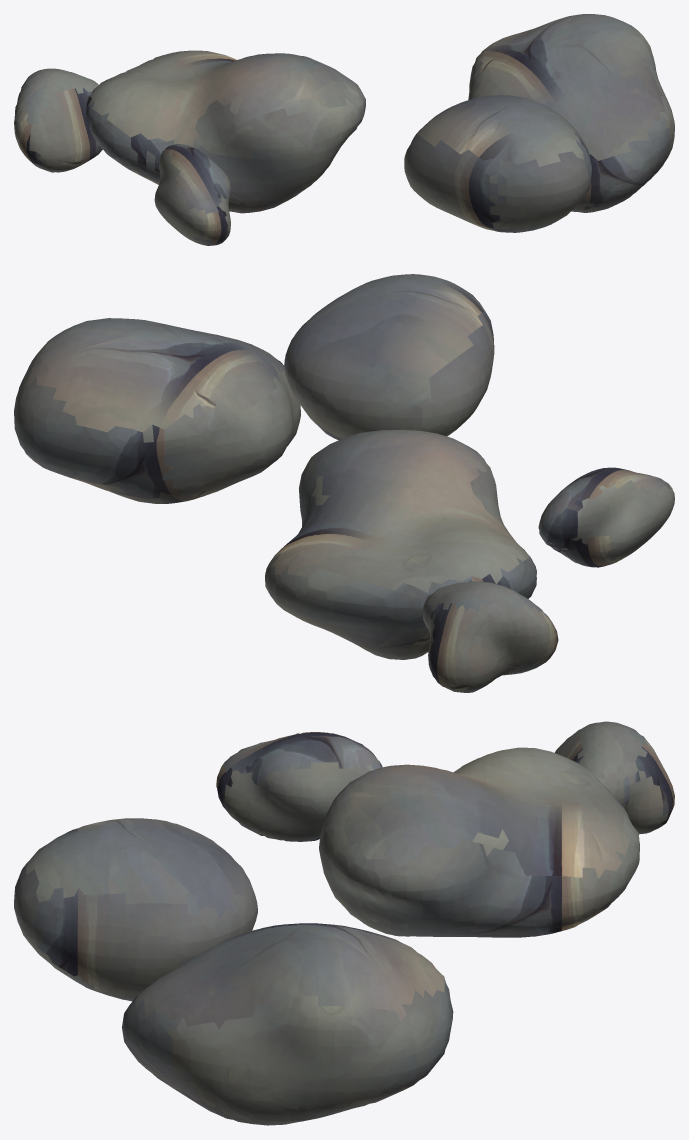
Rendered from stones1.glb.
3 renders of one model, top to bottom at view 1: azimuth 30°, elevation 25°; view 2: azimuth 150°, elevation 25°; view 3: azimuth 270°, elevation 25°, orthographic. The views are drawn at different scales.
Parts seen in each view (by area): view 1: stones1_stone_LOD0; view 2: stones1_stone_LOD0; view 3: stones1_stone_LOD0.
Part boxes in pixels (<box>): stones1_stone_LOD0: <box>14,14,674,245</box>; stones1_stone_LOD0: <box>14,274,674,692</box>; stones1_stone_LOD0: <box>14,721,674,1125</box>.
Size of what is drawn, in the model's own units: 0.9473 by 0.2467 by 0.8192.
Materials: 1 (1 with a texture image).
